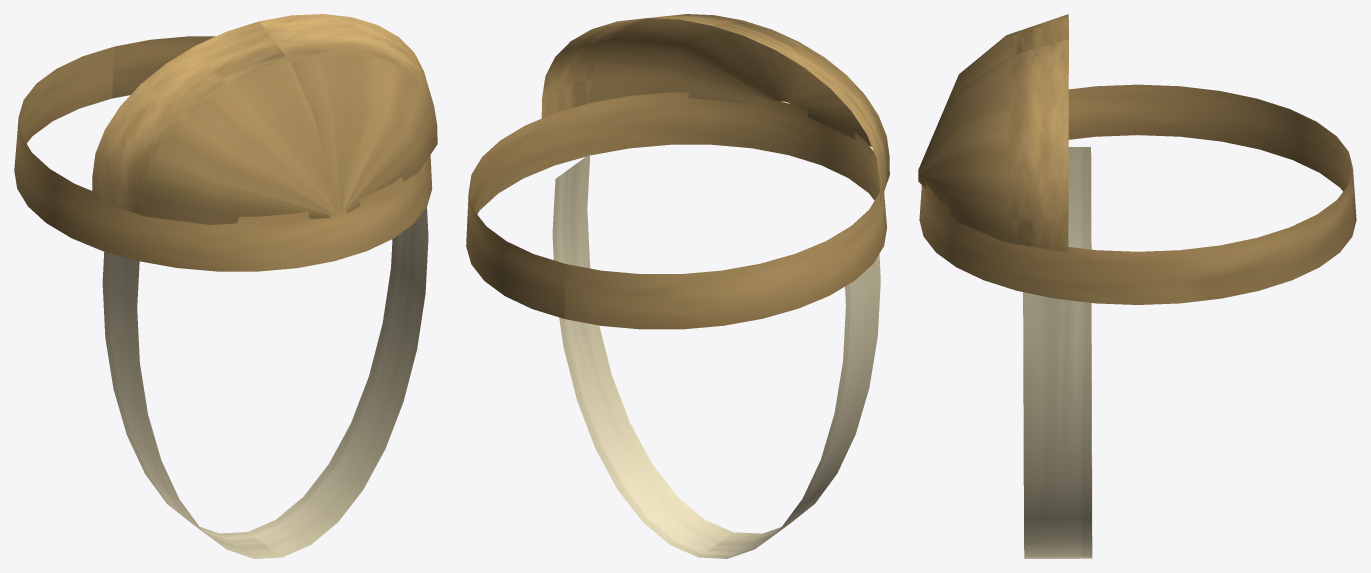
The model's file is helmet_moch_basic_inf_2.dae.
3 views of the same model, side by side, from view 1: azimuth 30°, elevation 25°; view 2: azimuth 150°, elevation 25°; view 3: azimuth 270°, elevation 25° (orthographic). The views are drawn at different scales.
Parts seen in each view (by area): view 1: helmet_moch_basic_inf_2; view 2: helmet_moch_basic_inf_2; view 3: helmet_moch_basic_inf_2.
Boxes of the visible parts, x1,y1,x2,y2 form: helmet_moch_basic_inf_2: (14, 14, 437, 558); helmet_moch_basic_inf_2: (466, 14, 889, 558); helmet_moch_basic_inf_2: (918, 14, 1356, 558).
Size of the model in its own units: 0.4891 by 0.533 by 0.6859.
